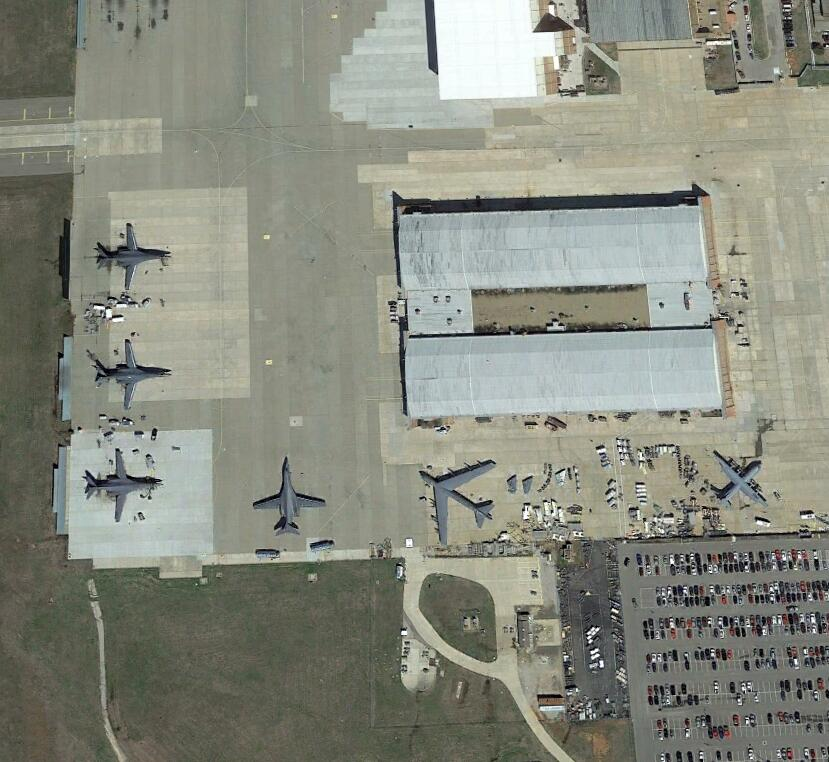A10: (253, 455, 327, 537), (84, 448, 165, 521), (94, 338, 174, 408), (94, 221, 172, 291)
A2: (711, 452, 773, 511)
A8: (420, 457, 497, 546)
